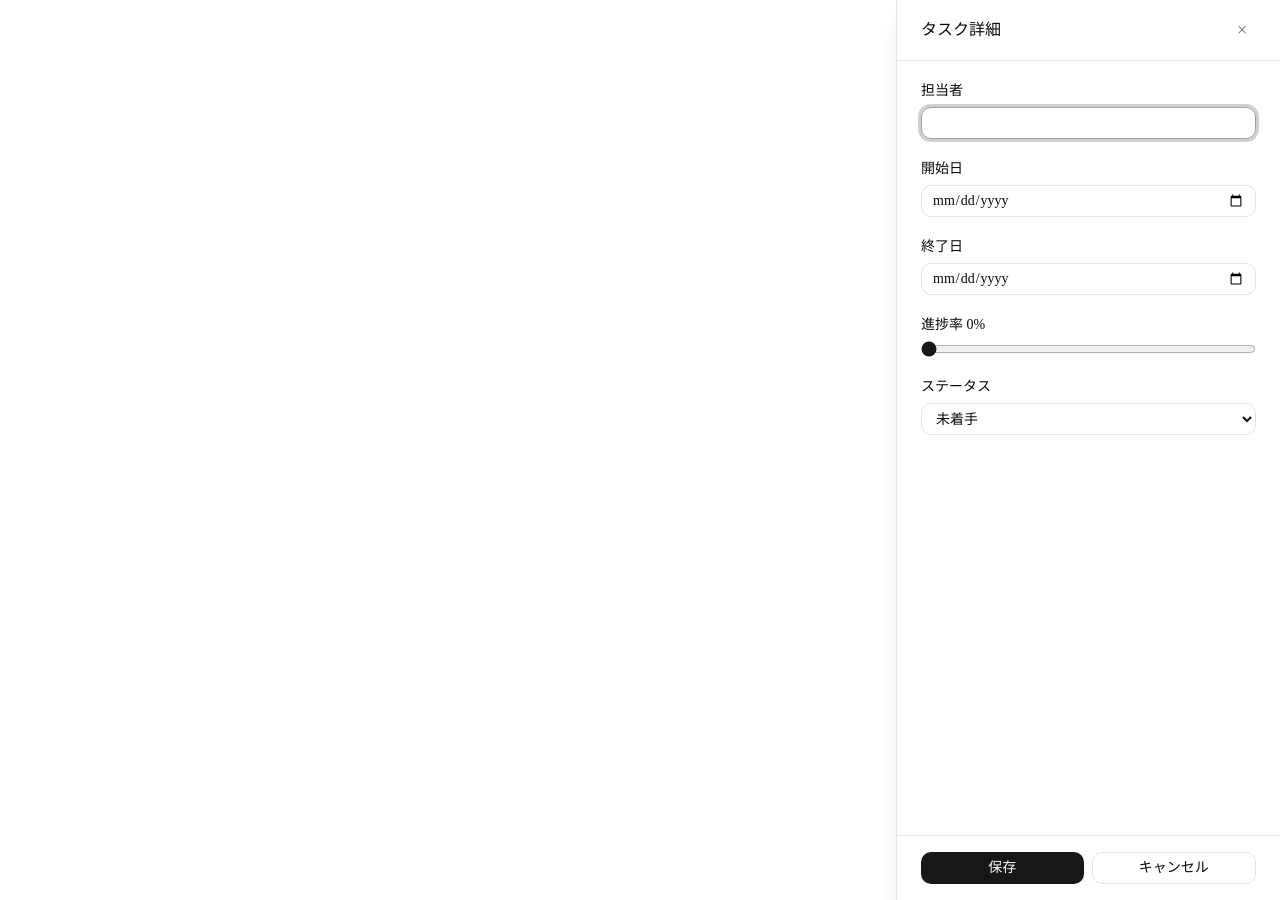
Scenario: TaskDetailPanel › ネットワークエラー時のエラー表示 › TaskDetailPanel_fetch が例外を投げたとき_role=alert のエラーメッセージが表示される
The width and height of the screenshot is (1280, 900).
Click the button "保存". click: {"x": 1002, "y": 868}
box: left=921, top=852, right=1084, bottom=884
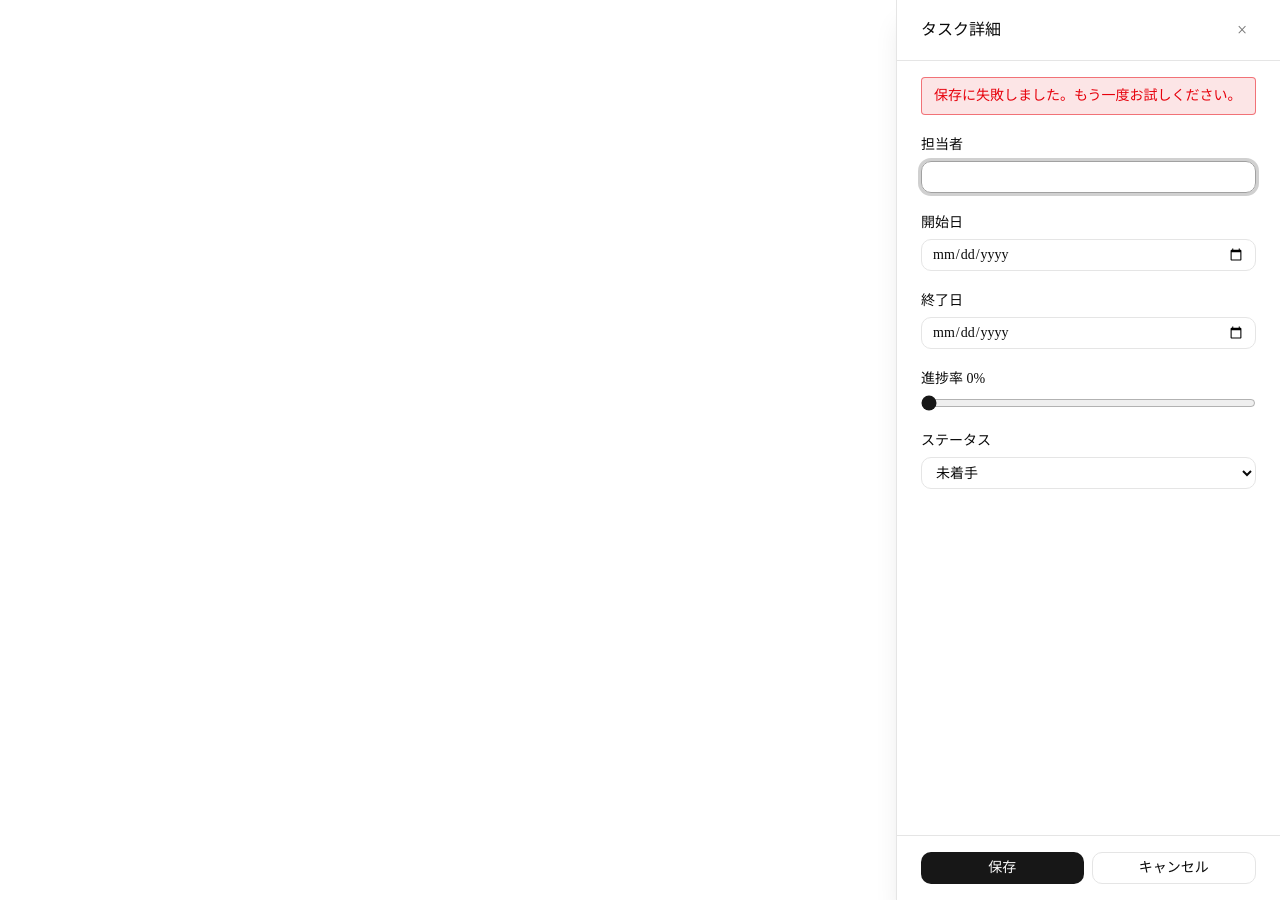
Now the message "保存に失敗しました。もう一度お試しください。" is shown, box left=921, top=77, right=1256, bottom=115
Now the message shows "保存に失敗しました", box left=934, top=88, right=1242, bottom=103
